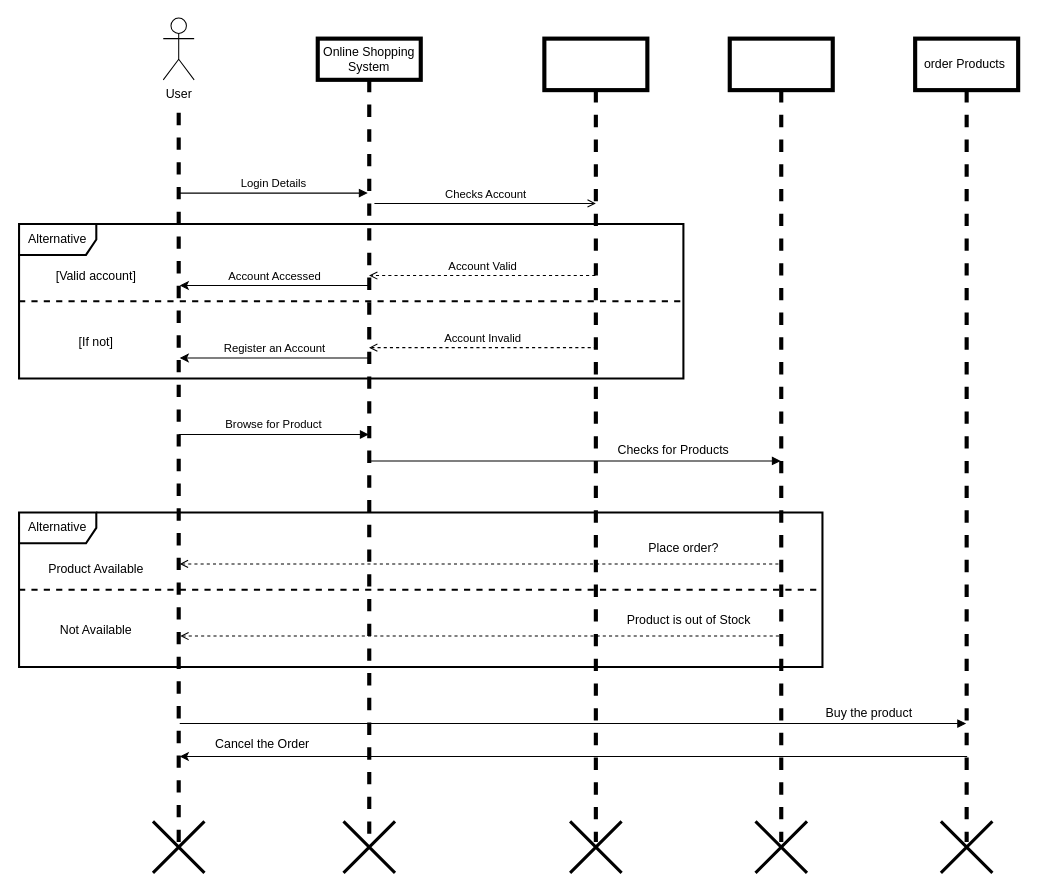
Image size: 1037x892. Some labels were removed from this diagram. The shapes that lost their labels are listed below. From the top down, each one's box as (x1, y1, x2, y2) in pixels, then its label:
(542, 36, 649, 844): System servers
(727, 36, 834, 844): Database
